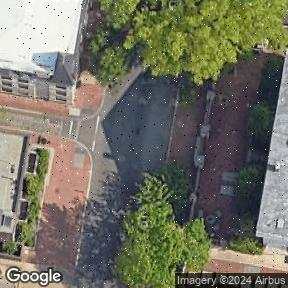vegetation: (96, 160, 218, 288), (230, 55, 284, 219), (19, 148, 55, 200), (17, 204, 43, 246), (230, 238, 261, 253), (181, 84, 196, 100), (2, 244, 17, 254)
